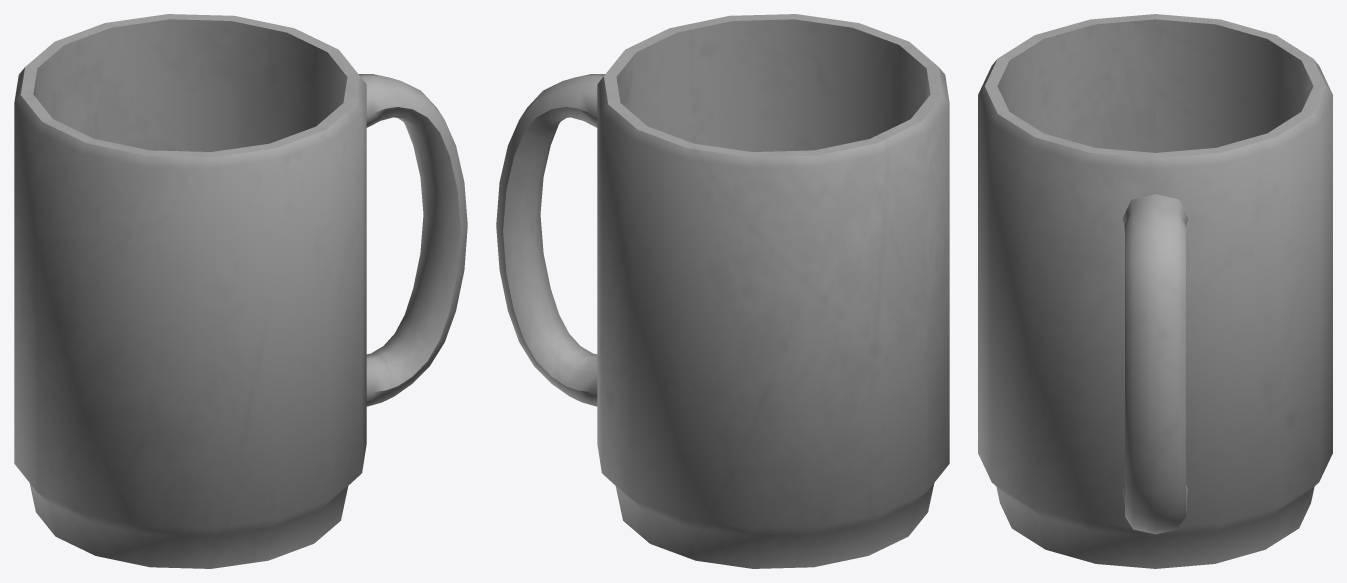
The model's file is Prop_Mug.gltf.
3 renders of one model, left to right at view 1: azimuth 30°, elevation 25°; view 2: azimuth 150°, elevation 25°; view 3: azimuth 270°, elevation 25°, orthographic.
Visible parts, largest first — view 1: Prop_Mug; view 2: Prop_Mug; view 3: Prop_Mug.
Part boxes in pixels (bbox=[...]): Prop_Mug: bbox=[14, 14, 467, 568]; Prop_Mug: bbox=[496, 14, 949, 568]; Prop_Mug: bbox=[978, 14, 1332, 568].
Bounding box in the file's own units: 0.1825 × 0.1718 × 0.1324.
Materials: 1 (1 with a texture image).
